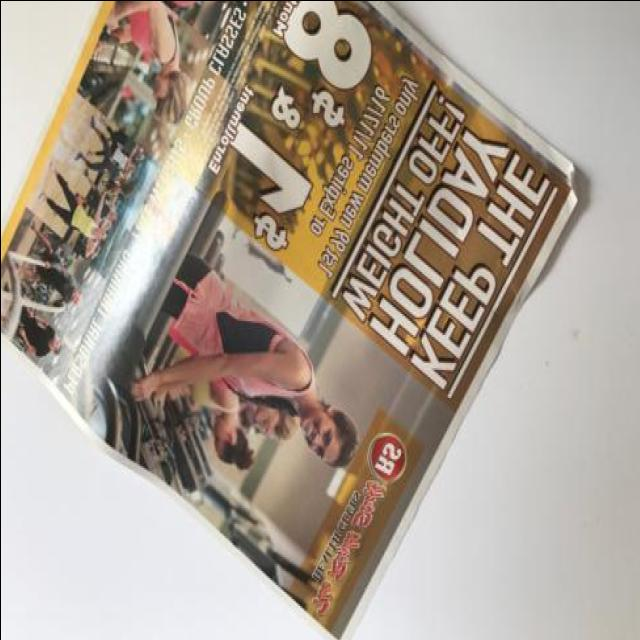kertas: (0, 0, 581, 640)
